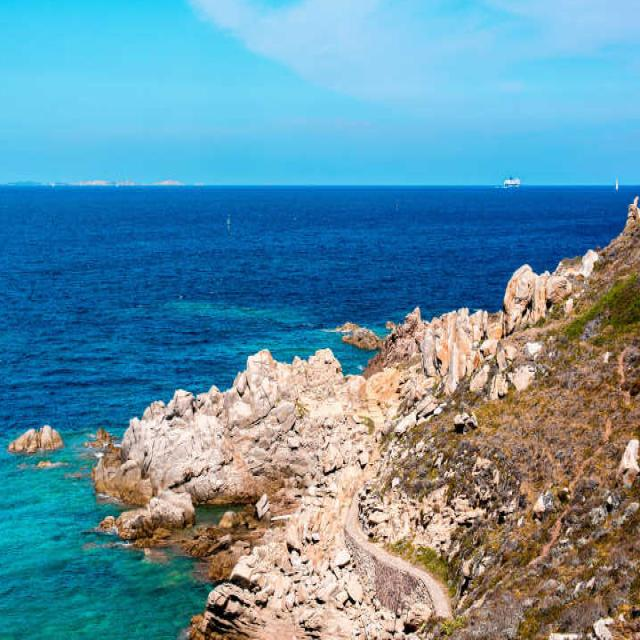reef: (12, 380, 383, 640)
